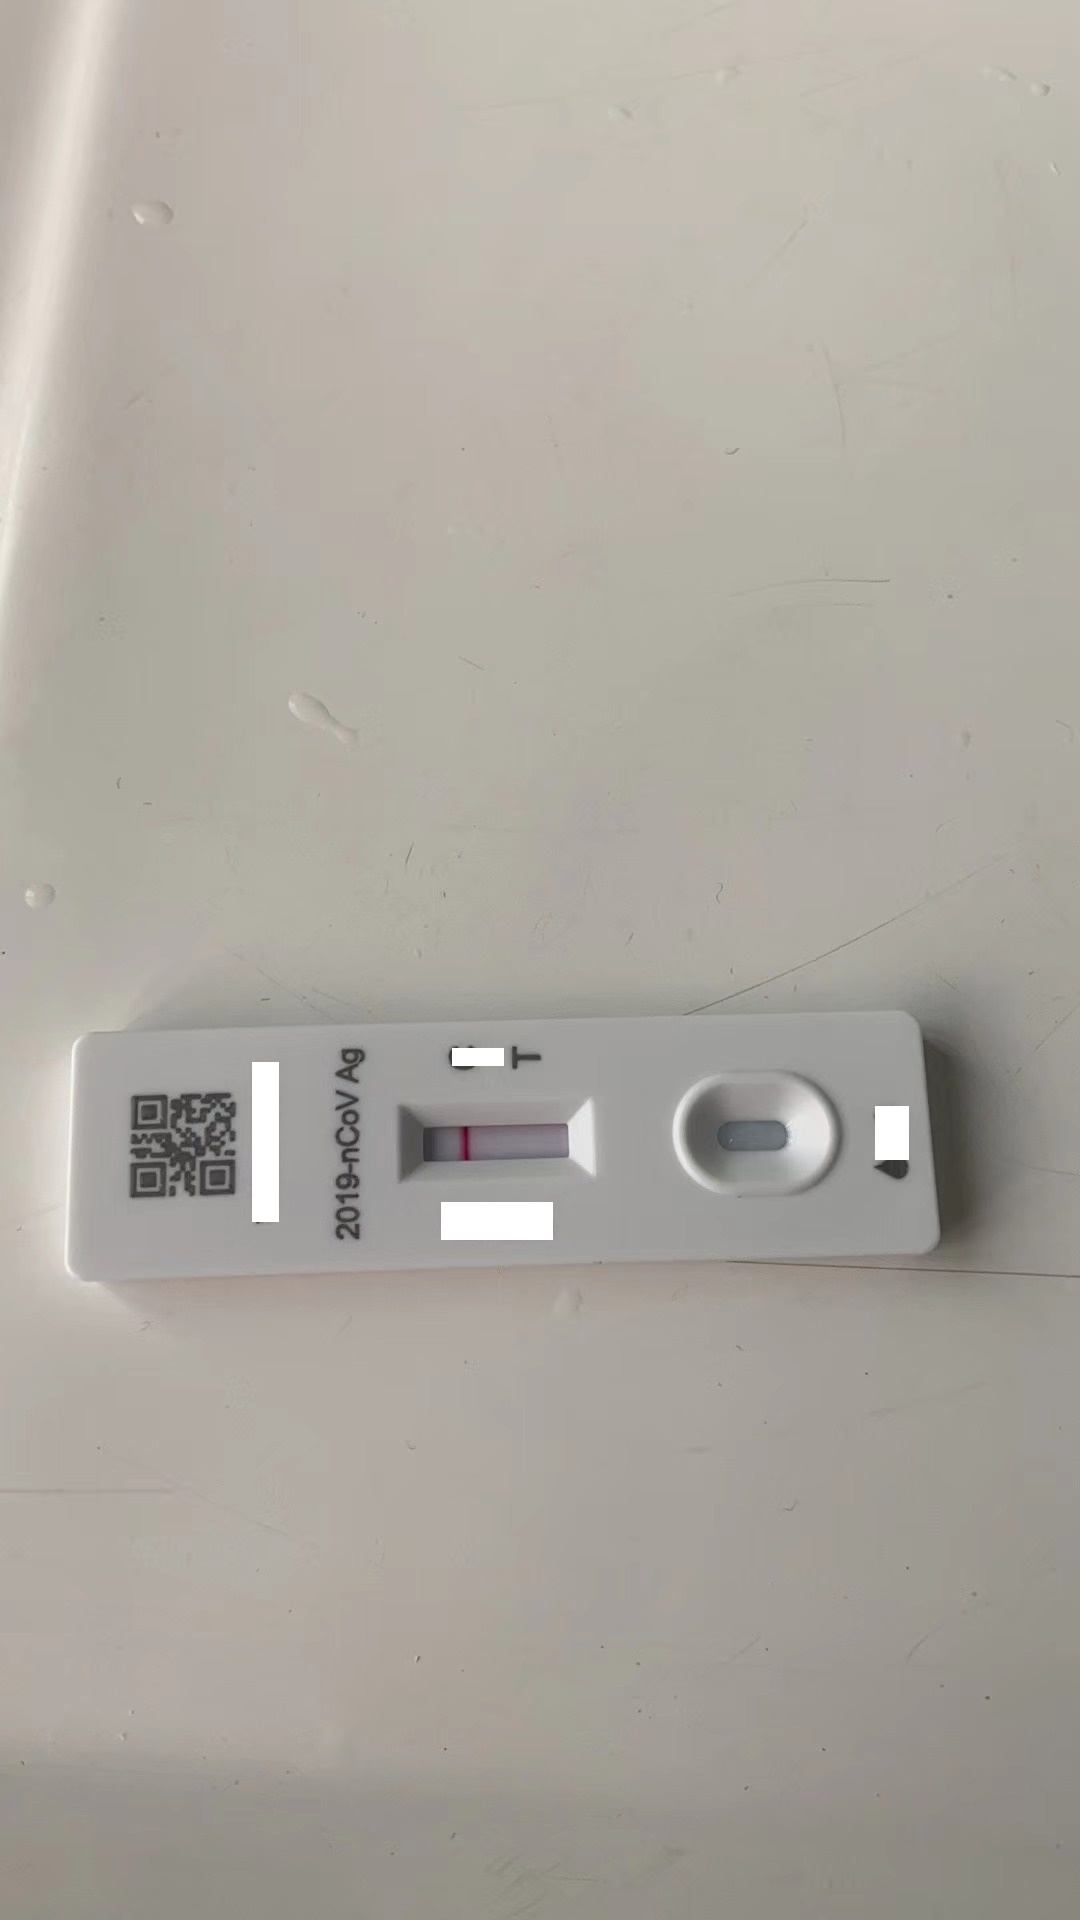negative: (392, 1101, 595, 1182)
